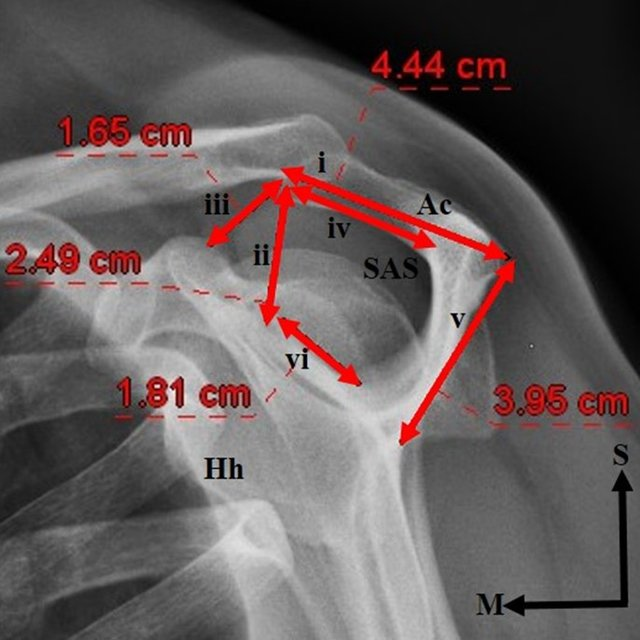telestration: (398, 257, 512, 440), (283, 165, 504, 256), (290, 183, 434, 247), (275, 320, 361, 385), (6, 240, 144, 277), (205, 180, 282, 246), (490, 382, 625, 418), (254, 188, 290, 322), (116, 375, 250, 410), (55, 115, 191, 147), (367, 50, 501, 79), (360, 252, 419, 282), (204, 451, 244, 482), (421, 193, 455, 218), (281, 350, 312, 371), (324, 214, 349, 239), (251, 242, 270, 266), (204, 195, 228, 212), (447, 306, 466, 327), (313, 150, 329, 174)
